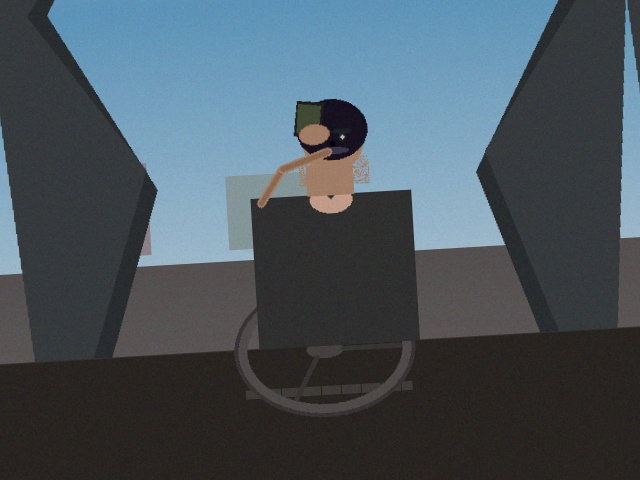phone_usage: (295, 94, 337, 144)
